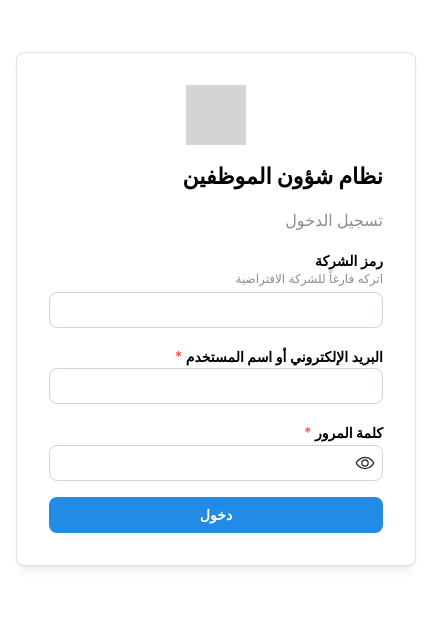
شاشة الدخول › تعرض رسالة مترجمة عند بيانات خاطئة
Type "a@b.test" into the field labelled "البريد الإلكتروني أو اسم المستخدم *".
click(216, 386); type("a@b.test")  # box [49,368,383,404]
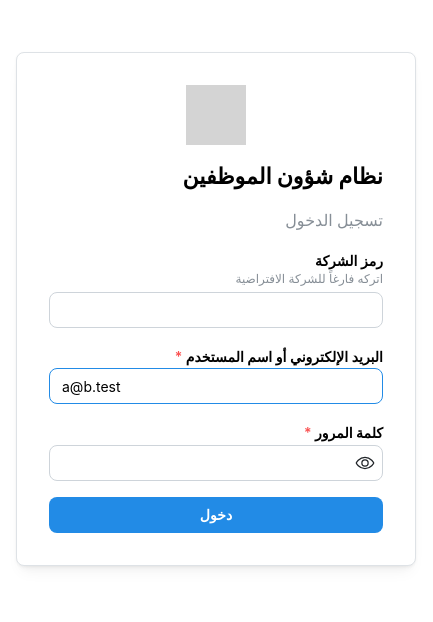
Type "secret" into the password field labelled "كلمة المرور *".
click(216, 463); type("secret")  # box [50,446,382,480]
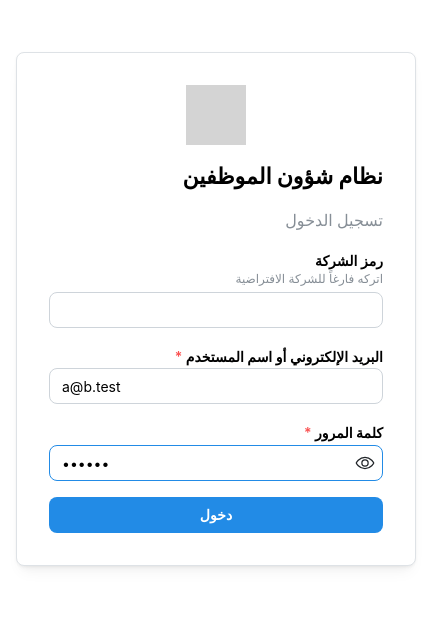
Click the button "دخول".
click(216, 515)  # box [49,497,383,533]
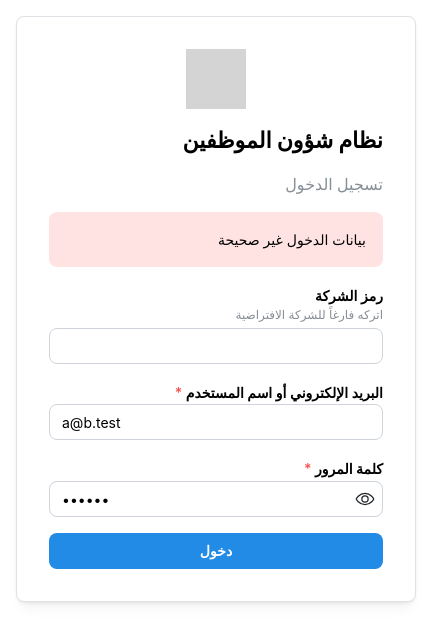
Result: the message reads "بيانات الدخول غير صحيحة" at [218,231,366,248]
